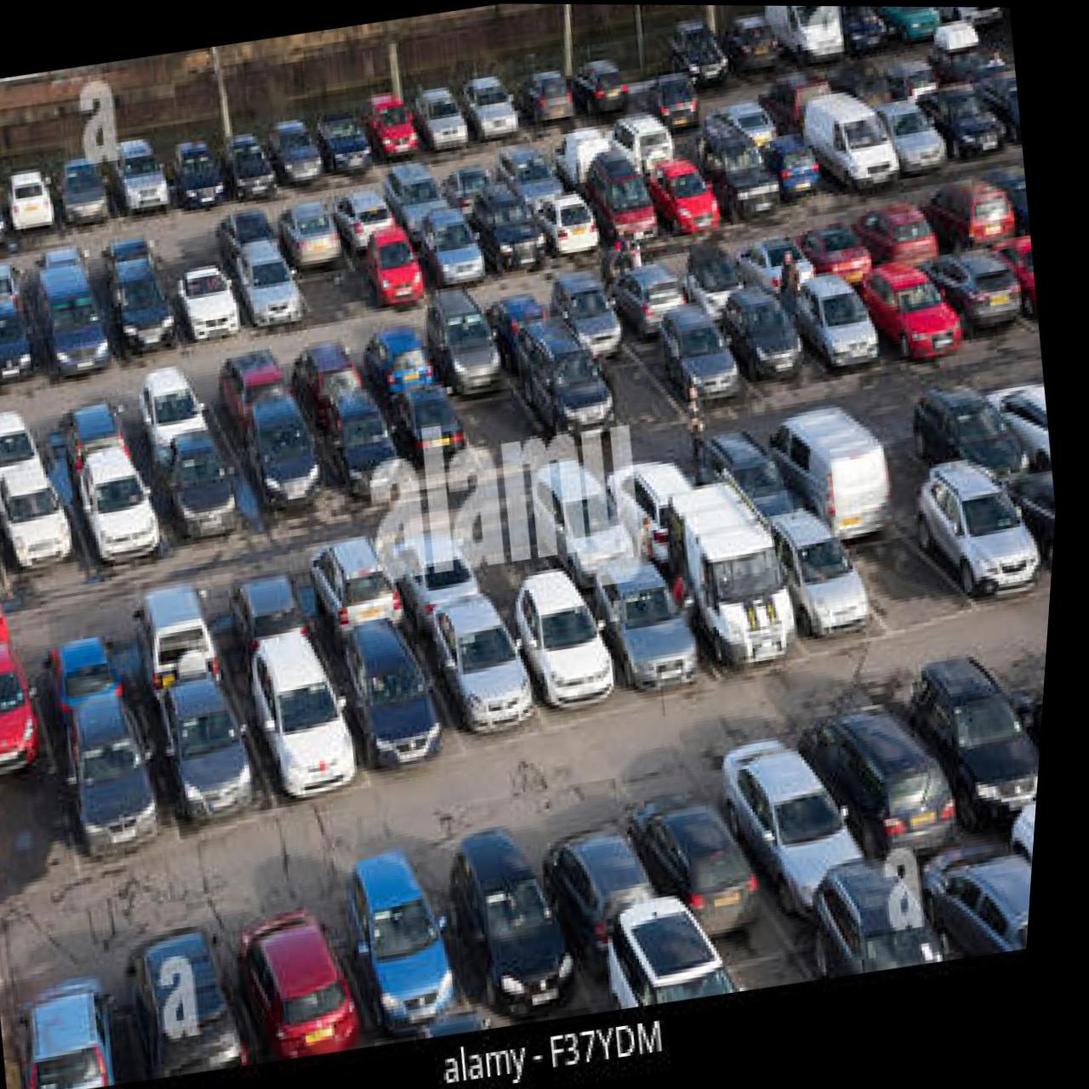cars: (720, 727, 860, 935), (903, 643, 1047, 836), (444, 837, 575, 1037), (815, 690, 947, 883), (227, 895, 369, 1073), (224, 658, 374, 819), (336, 867, 473, 1042), (654, 532, 798, 698), (630, 776, 767, 950), (321, 634, 465, 797), (415, 592, 547, 763), (899, 483, 1054, 615), (122, 933, 249, 1087), (155, 688, 286, 836), (543, 824, 661, 985), (47, 723, 177, 868), (744, 532, 874, 667), (583, 564, 708, 704), (502, 598, 626, 735), (2, 975, 136, 1089), (849, 256, 970, 380), (754, 423, 881, 541), (118, 582, 238, 702), (778, 271, 892, 397), (530, 459, 647, 579), (143, 440, 255, 565), (23, 635, 144, 749), (608, 449, 731, 559), (375, 519, 489, 635), (294, 538, 408, 654), (924, 386, 1035, 505), (214, 570, 330, 683), (706, 429, 818, 544), (62, 458, 168, 579), (712, 293, 818, 404), (0, 471, 93, 596), (204, 345, 310, 453), (514, 341, 619, 449), (640, 319, 752, 418), (230, 409, 325, 522), (308, 393, 408, 500), (381, 377, 481, 481), (929, 253, 1023, 359), (38, 391, 136, 488), (118, 372, 216, 469), (870, 91, 959, 196), (419, 294, 509, 397), (547, 267, 634, 372), (223, 241, 315, 337), (402, 207, 488, 309), (286, 334, 379, 427), (644, 153, 732, 249), (98, 280, 192, 367), (478, 289, 563, 384), (588, 165, 673, 260), (934, 77, 1016, 174), (819, 104, 901, 199), (668, 249, 752, 341), (927, 169, 1011, 261), (603, 259, 687, 347), (797, 207, 878, 298), (706, 144, 787, 234), (857, 190, 939, 278), (29, 292, 111, 380), (367, 313, 443, 406), (524, 182, 607, 267), (163, 262, 252, 341), (0, 646, 54, 775), (759, 126, 837, 213), (354, 226, 426, 319), (738, 230, 819, 308), (872, 42, 950, 123), (0, 162, 70, 252), (545, 118, 625, 196), (19, 238, 103, 310), (85, 230, 169, 302), (105, 151, 175, 237), (409, 83, 481, 166), (763, 56, 841, 131), (360, 98, 430, 181), (461, 78, 531, 161), (163, 146, 240, 221), (470, 195, 539, 278), (333, 177, 402, 260), (313, 111, 382, 194), (569, 51, 638, 134), (210, 135, 280, 215), (379, 161, 448, 241), (610, 111, 685, 184), (270, 194, 343, 268), (432, 153, 506, 226), (486, 138, 560, 211), (663, 27, 734, 103), (263, 122, 331, 199), (768, 6, 847, 72), (929, 26, 1002, 96), (719, 82, 783, 161), (0, 406, 47, 510), (726, 7, 795, 73), (518, 68, 581, 140), (626, 57, 689, 126), (56, 165, 116, 237), (832, 57, 894, 122), (223, 204, 283, 266), (825, 6, 887, 65), (0, 316, 44, 388), (879, 7, 948, 50), (0, 258, 37, 334), (928, 7, 1004, 32), (0, 180, 9, 262)
empty: (835, 512, 957, 633), (850, 412, 954, 536), (0, 758, 89, 898), (460, 491, 564, 599), (578, 341, 679, 444), (452, 373, 542, 476), (286, 240, 369, 331), (657, 94, 736, 165), (155, 214, 229, 285)
